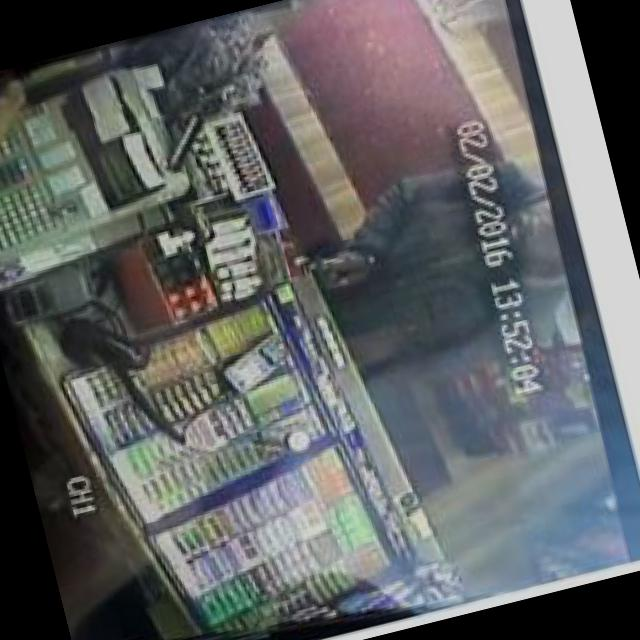handgun: (304, 218, 392, 302)
